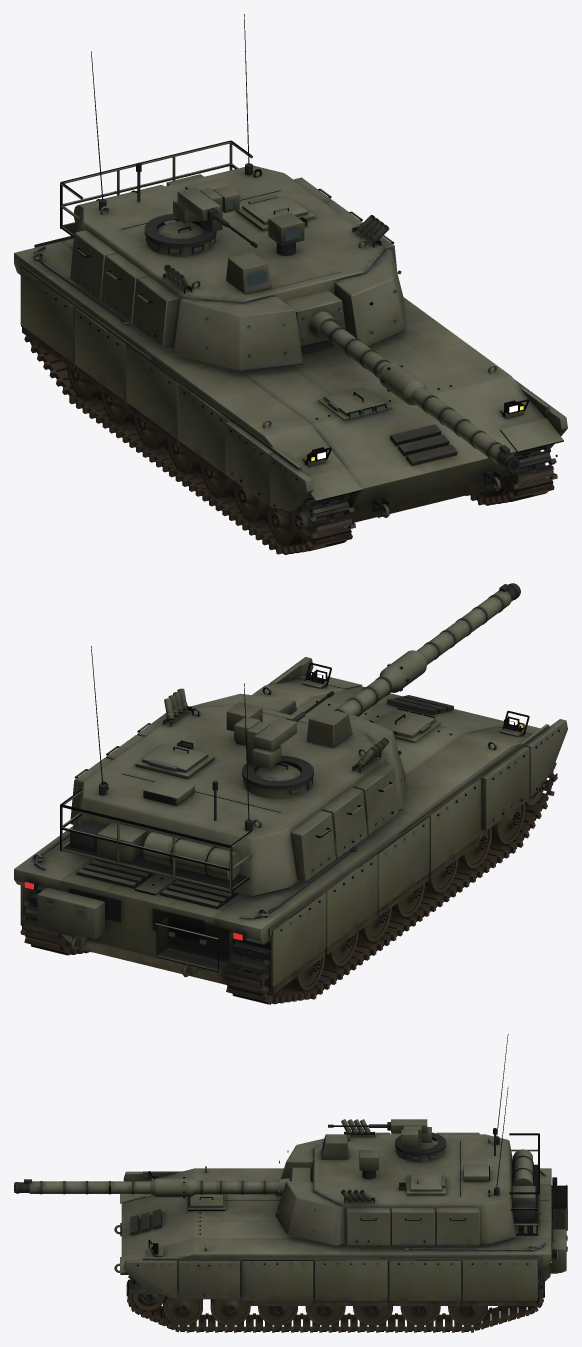
Rendered from main-battle-tank.glb.
3 renders of one model, top to bottom at view 1: azimuth 30°, elevation 25°; view 2: azimuth 150°, elevation 25°; view 3: azimuth 270°, elevation 25°, orthographic. The views are drawn at different scales.
Visible parts, largest first — view 1: body, turret_mesh, gun_mesh, weapon_station_mesh, hatch_loader_mesh, hatch_driver_mesh, road_wheel_R1_mesh, road_wheel_R2_mesh, idler_R_mesh; view 2: body, turret_mesh, gun_mesh, weapon_station_mesh, hatch_loader_mesh, hatch_driver_mesh, road_wheel_R1_mesh, road_wheel_R2_mesh, road_wheel_R7_mesh, road_wheel_R3_mesh, road_wheel_R5_mesh, road_wheel_R6_mesh (+2 smaller); view 3: body, turret_mesh, gun_mesh, weapon_station_mesh, road_wheel_L1_mesh, road_wheel_L2_mesh, road_wheel_L4_mesh, road_wheel_L7_mesh, road_wheel_L5_mesh, road_wheel_L6_mesh, road_wheel_L3_mesh, hatch_loader_mesh (+2 smaller).
Boxes of the visible parts, x1=… form: body: x1=14, y1=236, x2=567, y2=554; turret_mesh: x1=60, y1=14, x2=405, y2=371; gun_mesh: x1=284, y1=290, x2=520, y2=472; weapon_station_mesh: x1=144, y1=186, x2=257, y2=247; hatch_loader_mesh: x1=242, y1=195, x2=308, y2=224; hatch_driver_mesh: x1=323, y1=386, x2=386, y2=415; road_wheel_R1_mesh: x1=266, y1=505, x2=303, y2=546; road_wheel_R2_mesh: x1=233, y1=480, x2=267, y2=522; idler_R_mesh: x1=293, y1=499, x2=343, y2=541; body: x1=14, y1=657, x2=567, y2=1004; turret_mesh: x1=60, y1=646, x2=405, y2=896; gun_mesh: x1=291, y1=583, x2=520, y2=719; weapon_station_mesh: x1=234, y1=691, x2=334, y2=789; hatch_loader_mesh: x1=142, y1=743, x2=208, y2=772; hatch_driver_mesh: x1=375, y1=709, x2=435, y2=738; road_wheel_R1_mesh: x1=491, y1=803, x2=525, y2=844; road_wheel_R2_mesh: x1=458, y1=827, x2=491, y2=869; road_wheel_R7_mesh: x1=287, y1=950, x2=325, y2=991; road_wheel_R3_mesh: x1=424, y1=859, x2=458, y2=893; road_wheel_R5_mesh: x1=358, y1=907, x2=391, y2=942; road_wheel_R6_mesh: x1=324, y1=932, x2=358, y2=966; body: x1=114, y1=1166, x2=567, y2=1332; turret_mesh: x1=275, y1=1033, x2=539, y2=1245; gun_mesh: x1=14, y1=1167, x2=311, y2=1198; weapon_station_mesh: x1=328, y1=1119, x2=446, y2=1155; road_wheel_L1_mesh: x1=163, y1=1280, x2=202, y2=1325; road_wheel_L2_mesh: x1=210, y1=1282, x2=250, y2=1325; road_wheel_L4_mesh: x1=305, y1=1283, x2=345, y2=1325; road_wheel_L7_mesh: x1=448, y1=1281, x2=487, y2=1325; road_wheel_L5_mesh: x1=353, y1=1286, x2=392, y2=1325; road_wheel_L6_mesh: x1=400, y1=1306, x2=440, y2=1325; road_wheel_L3_mesh: x1=258, y1=1306, x2=297, y2=1325; hatch_loader_mesh: x1=410, y1=1174, x2=445, y2=1191.
Bounding box in the file's own units: 3.78 × 4.45 × 9.68.
5 materials, 1 textured.
